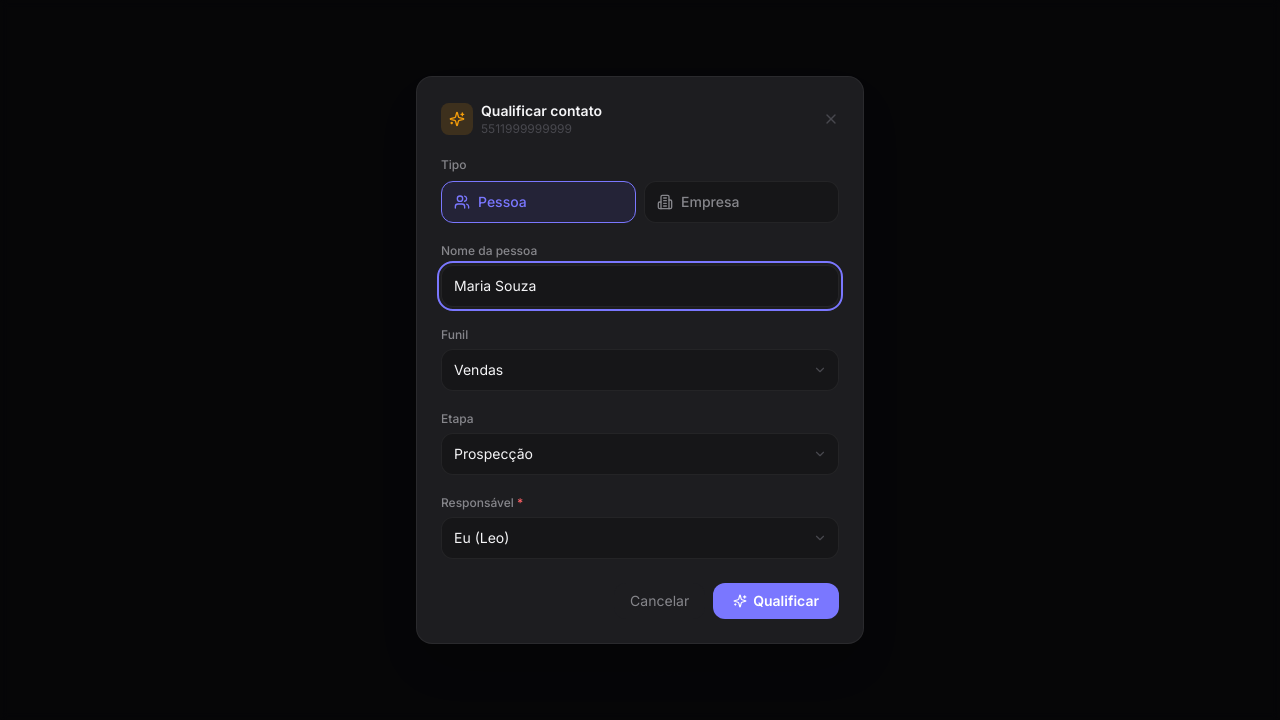
<QualifyModal /> › bloqueia submit sem responsável e exibe mensagem de erro
Expected: the dropdown showing "Vendas" below "Funil" is shown, [441,349,839,391]
Select "Selecione o responsável…" in the dropdown showing "Eu (Leo)" below "Responsável": coordinates (640, 538) [441,517,839,559]
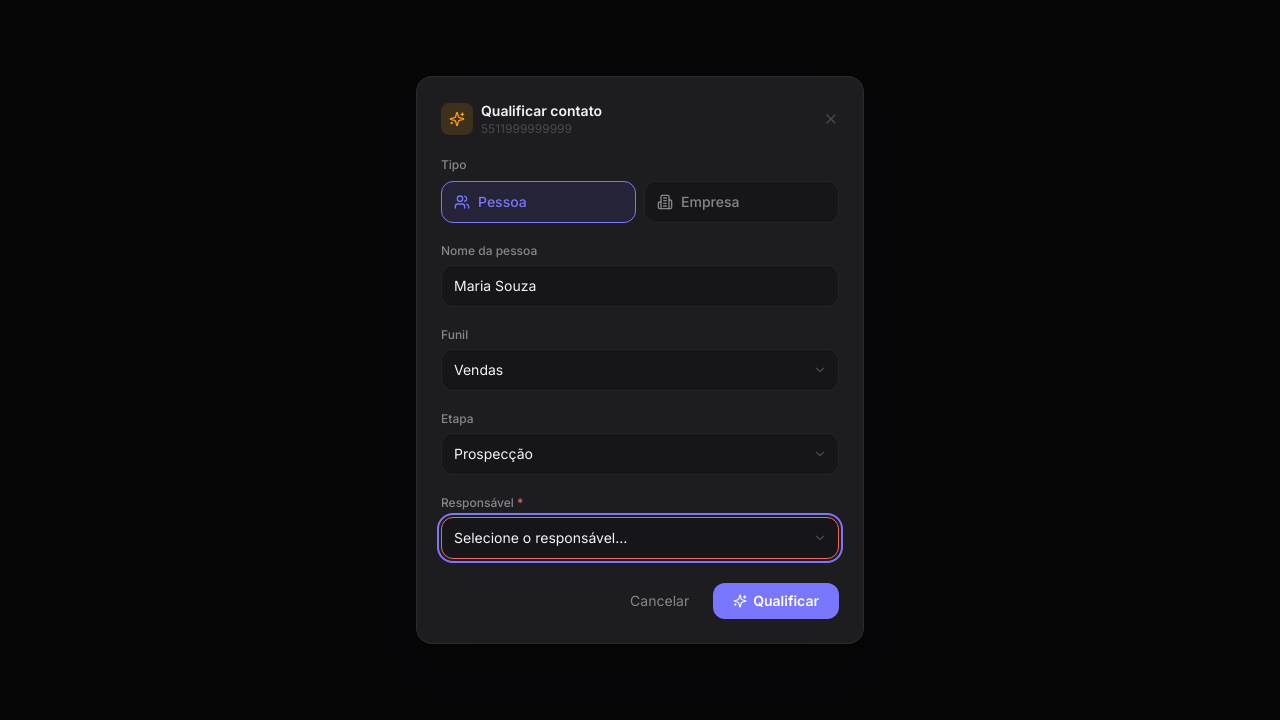
Click the button "Qualificar": coordinates (776, 601) [713,583,839,619]
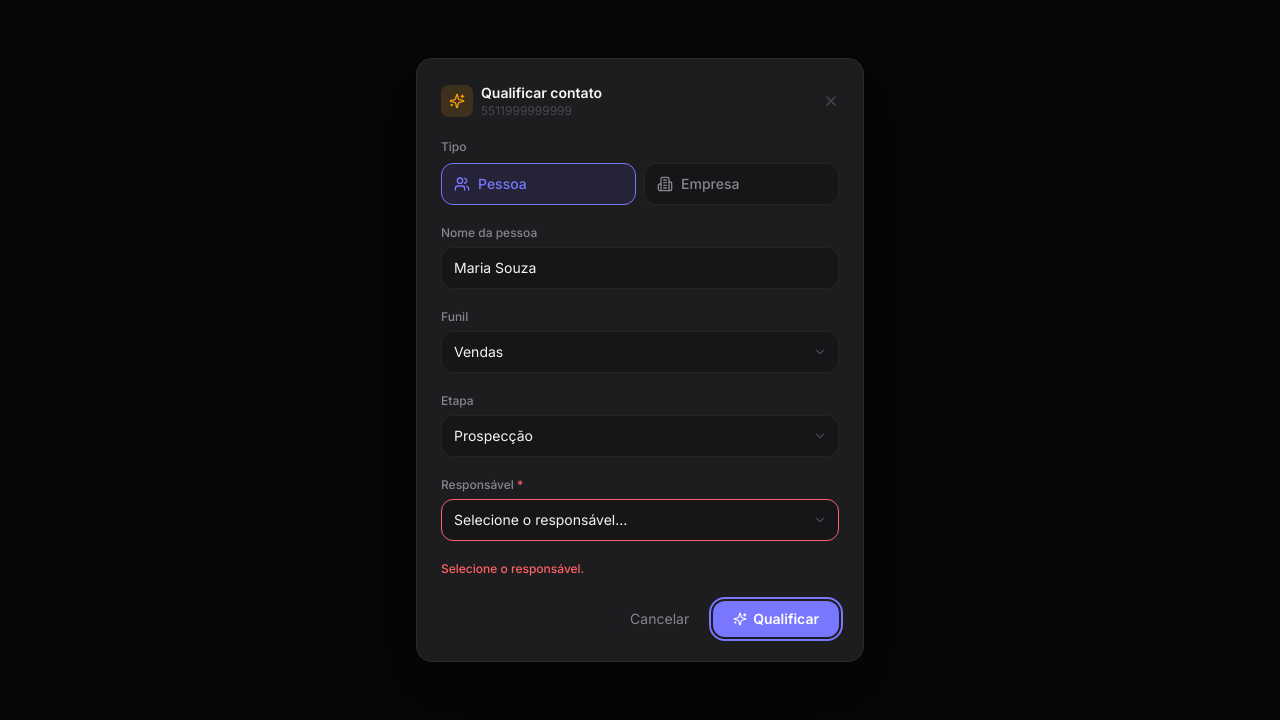
Expected: the text "Selecione o responsável." is shown, [441,561,584,576]
